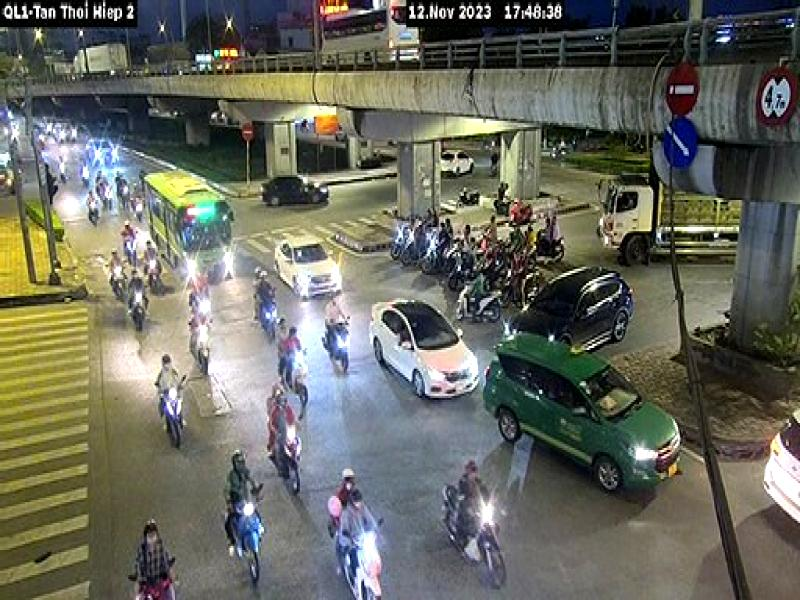bus: (143, 166, 234, 280)
